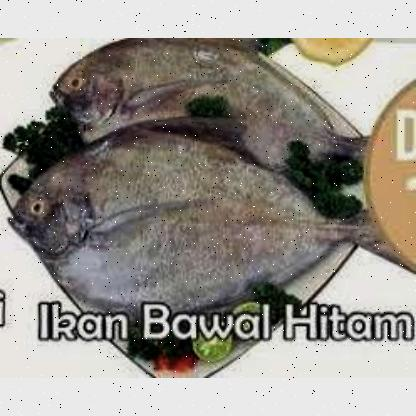ikan-pacu: (11, 126, 352, 300), (48, 36, 366, 160)
